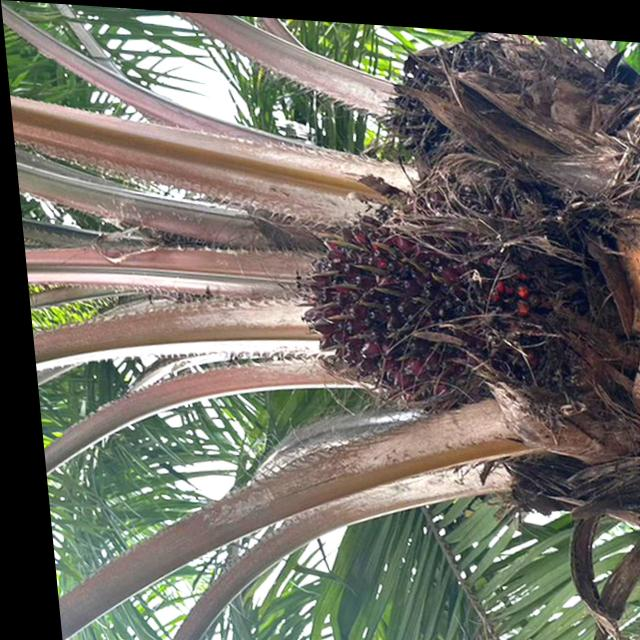ripe: (277, 191, 546, 430), (380, 25, 640, 226)
